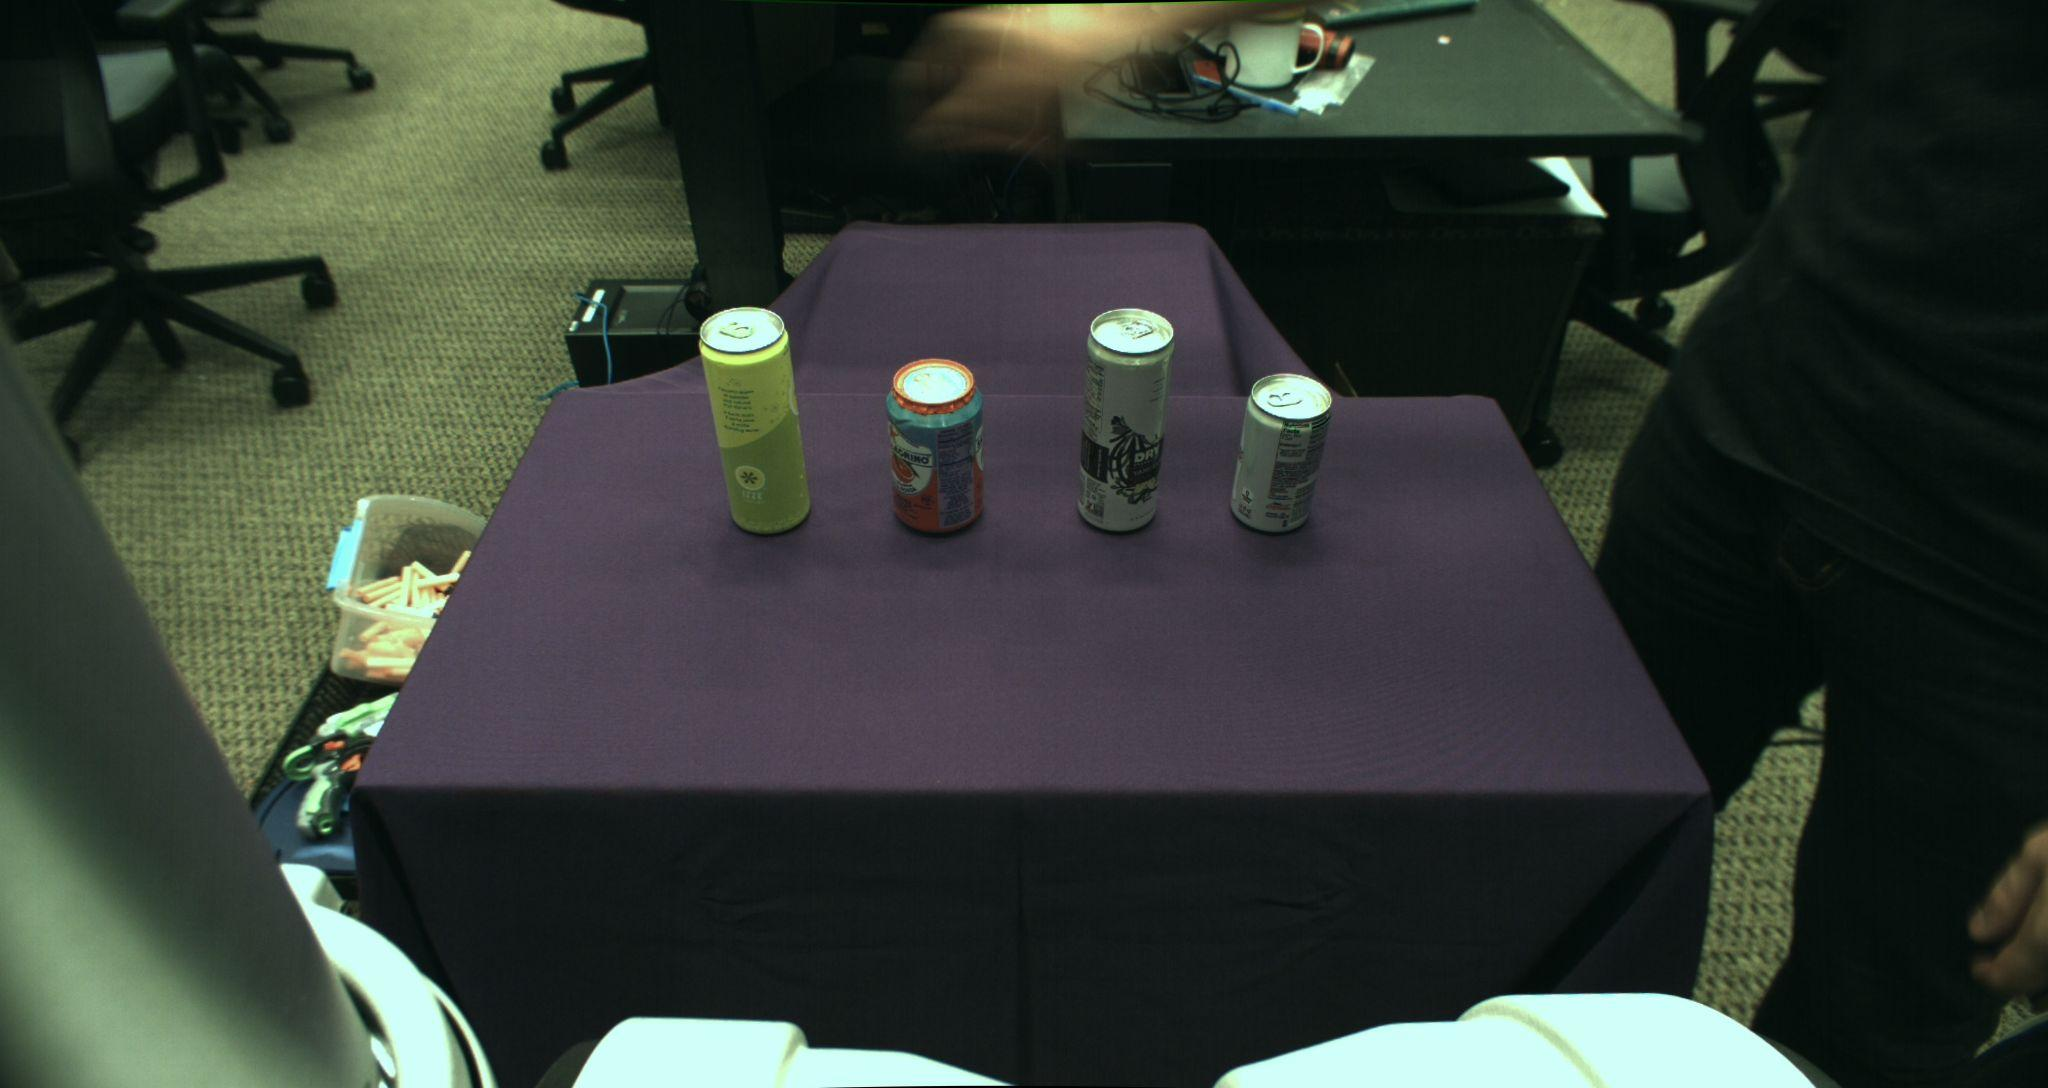can_diet_coke_small: (1229, 373, 1334, 532)
can_dry_sparkling_vanilla_bean: (1075, 306, 1176, 532)
can_izze_fusions_lemon_lime: (698, 308, 811, 534)
can_sanpellegrino_blood_orange: (884, 359, 985, 534)
